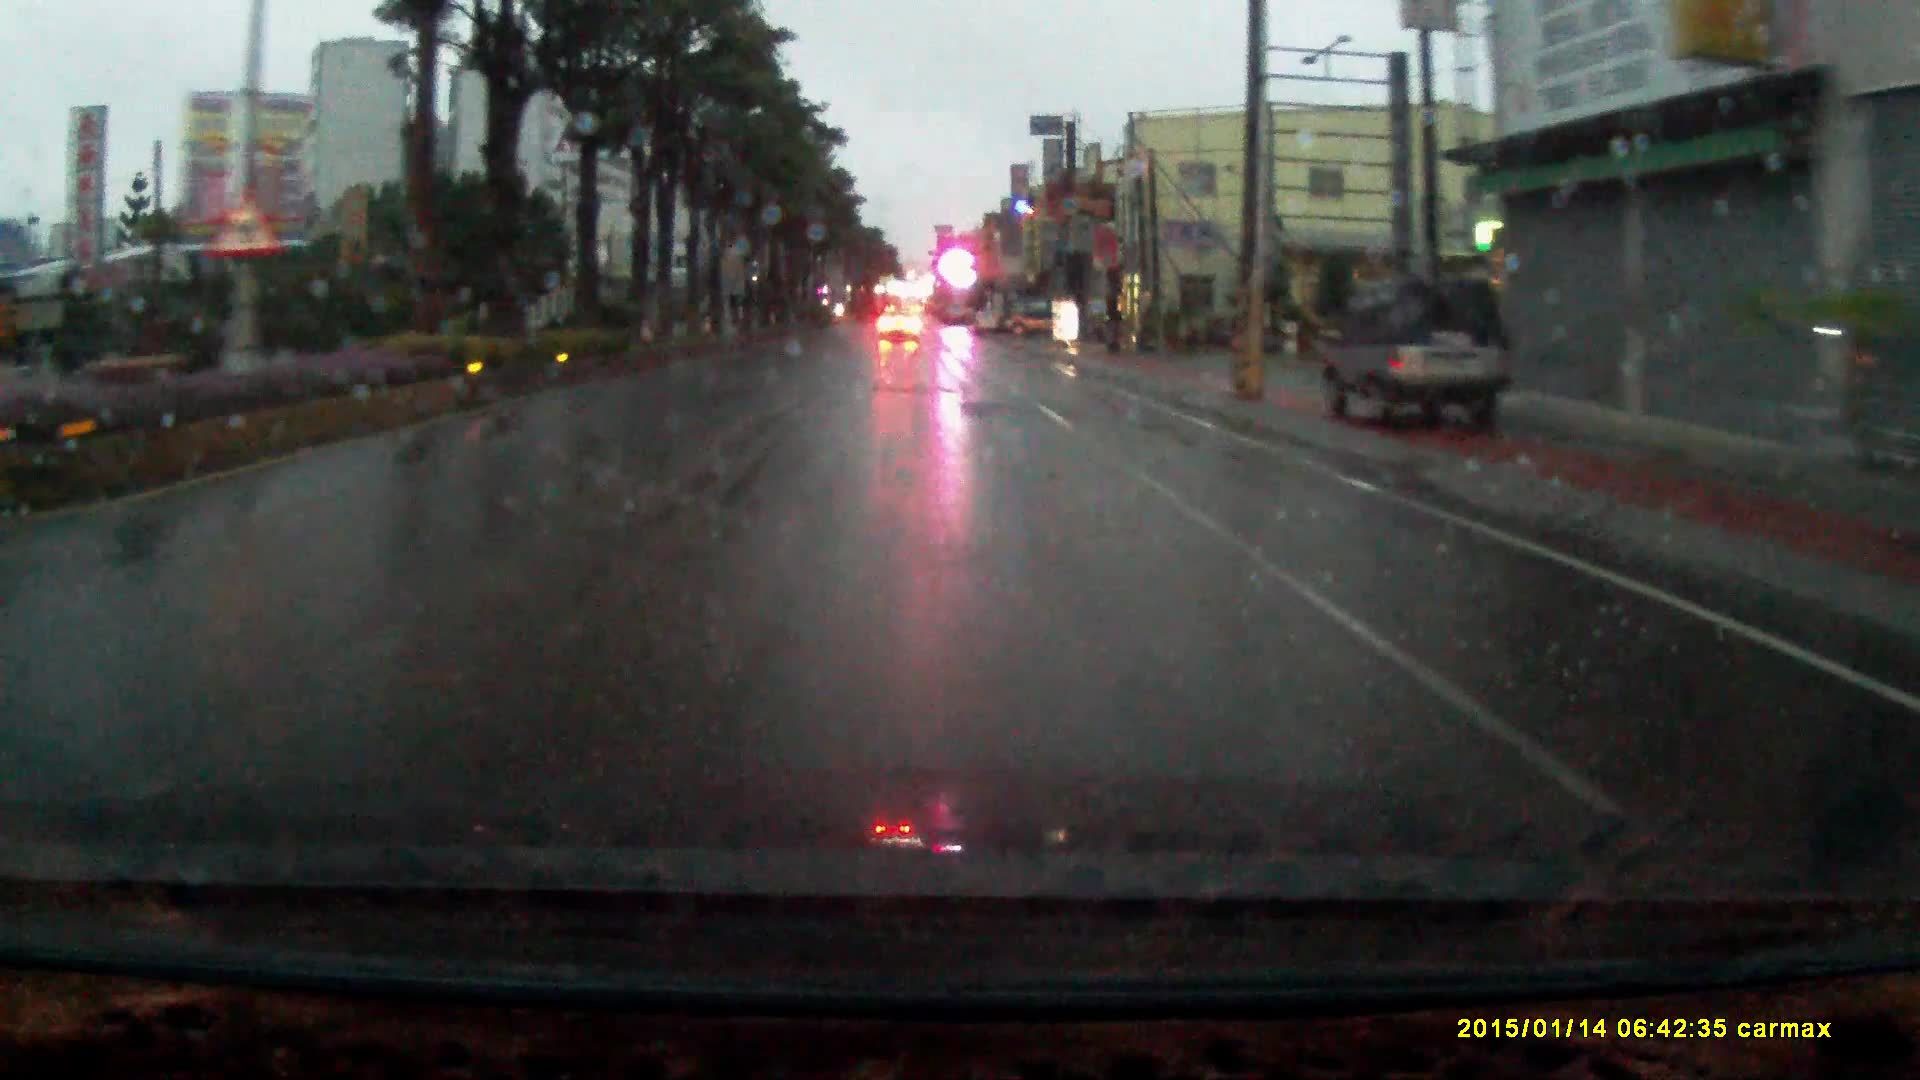vehicle: (1321, 276, 1518, 429), (878, 309, 922, 342)
